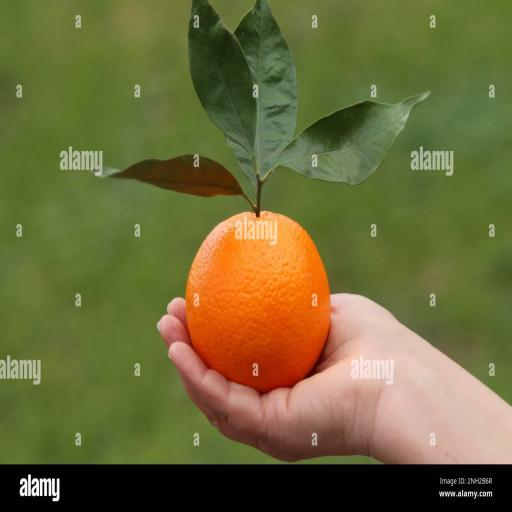orange: (186, 212, 330, 392)
